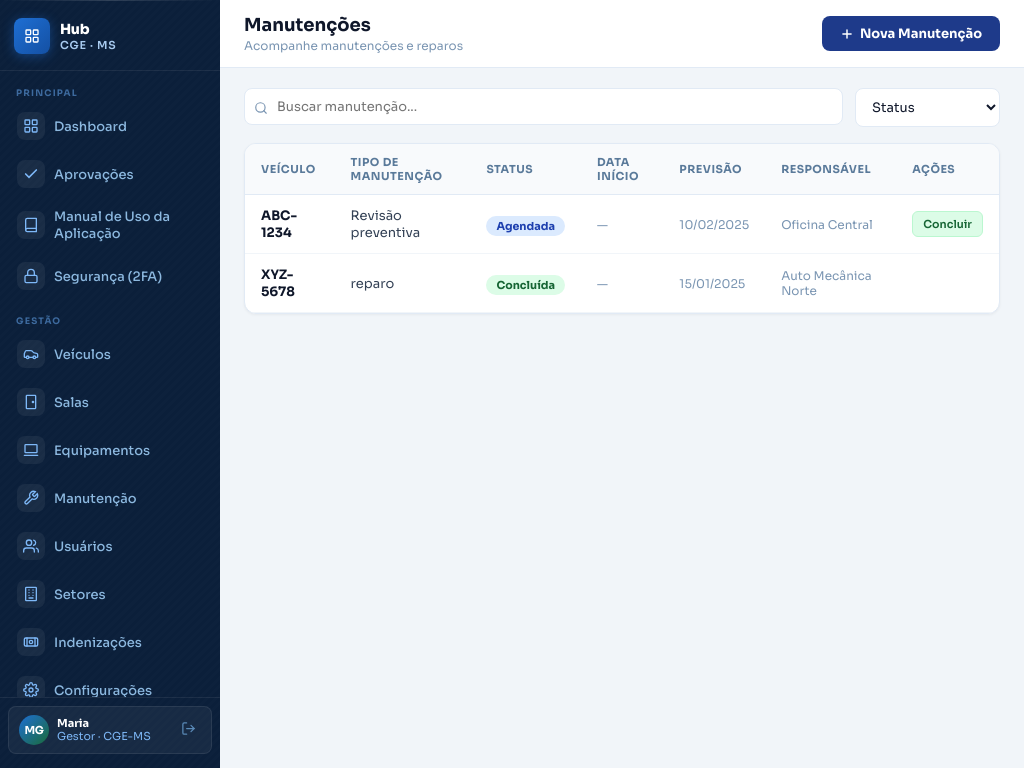
Test case: Manutencao — modal Agendar › clicar Nova Manutenção abre modal
The image size is (1024, 768).
Click the button "Nova Manutenção" at (911, 34), box [822,16,1000,51]
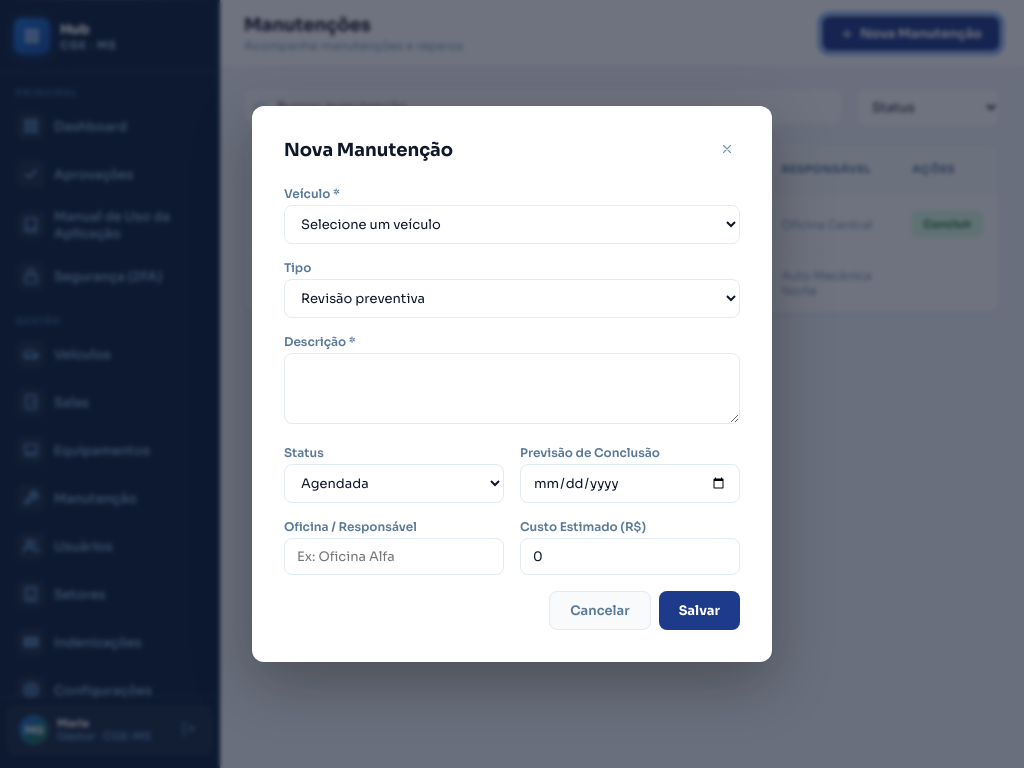
Result: the heading "Nova Manutenção" is shown at [284,139,453,161]
